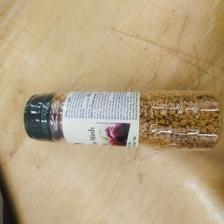TayNinh_green: (23, 87, 222, 151)
